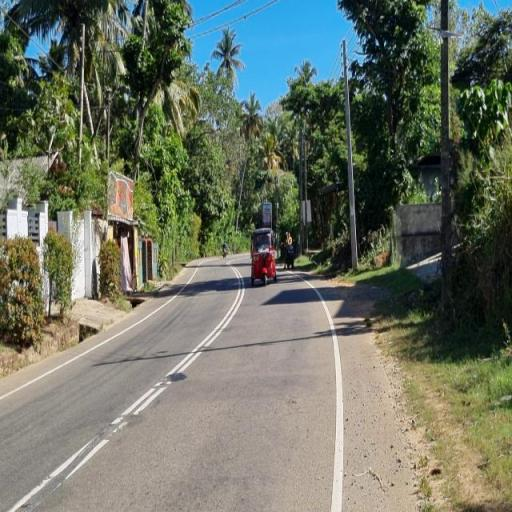double_white_line: (109, 266, 243, 433)
